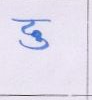u_matra: (19, 37, 50, 51)
